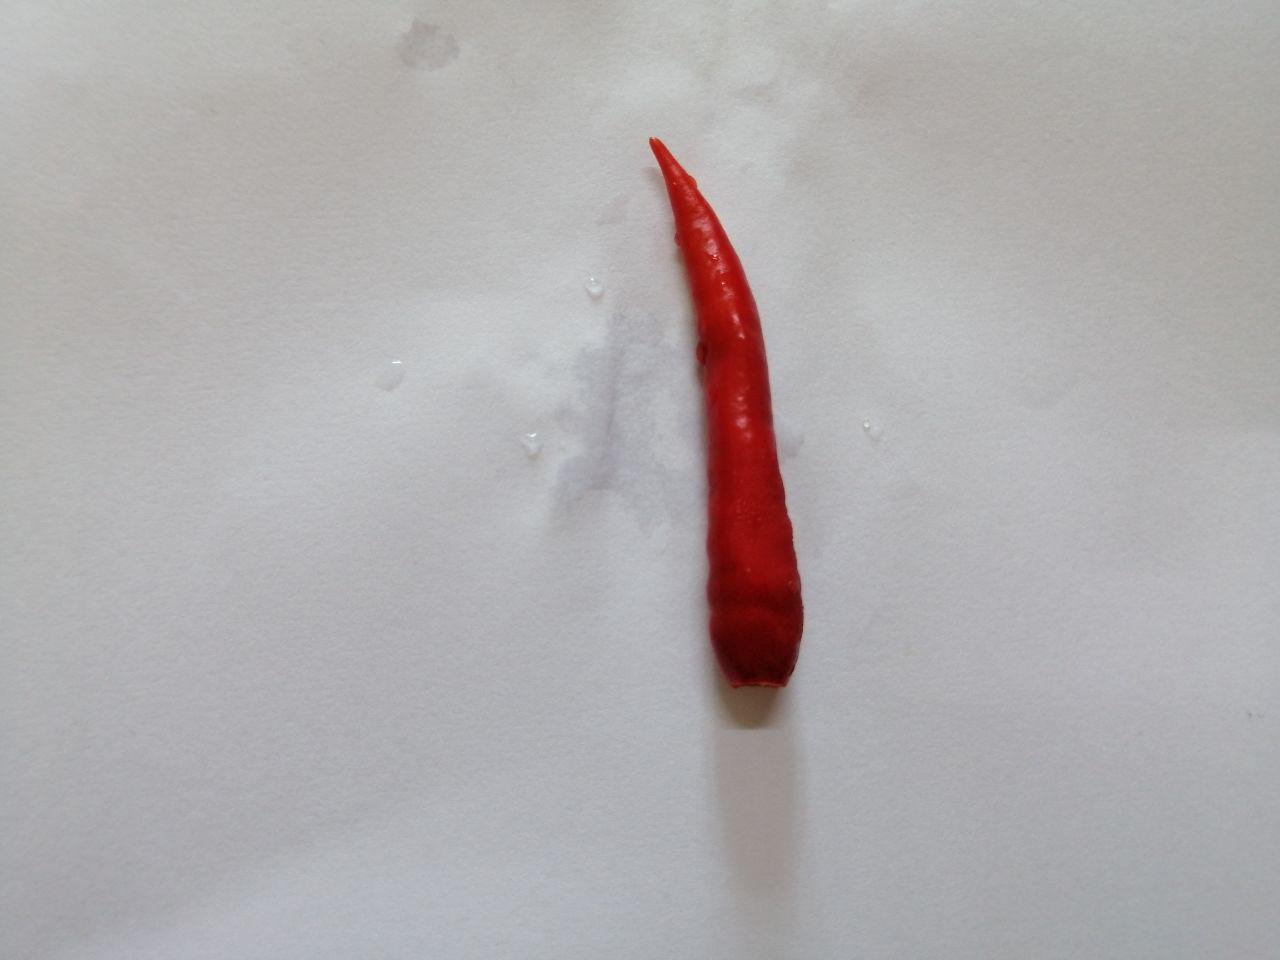lada merah: (637, 127, 835, 706)
